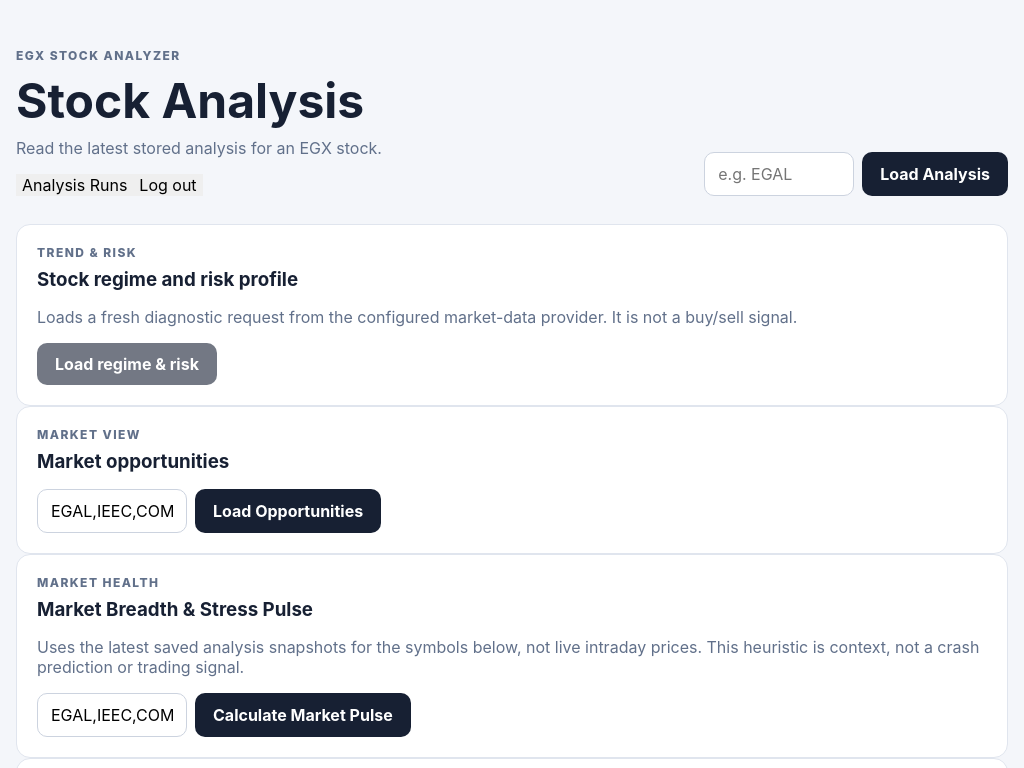
Test case: Dashboard › loads and renders the latest report and alert
The width and height of the screenshot is (1024, 768).
In the field named "Stock Symbol": (779, 174) [704,152,854,196], type "egal"
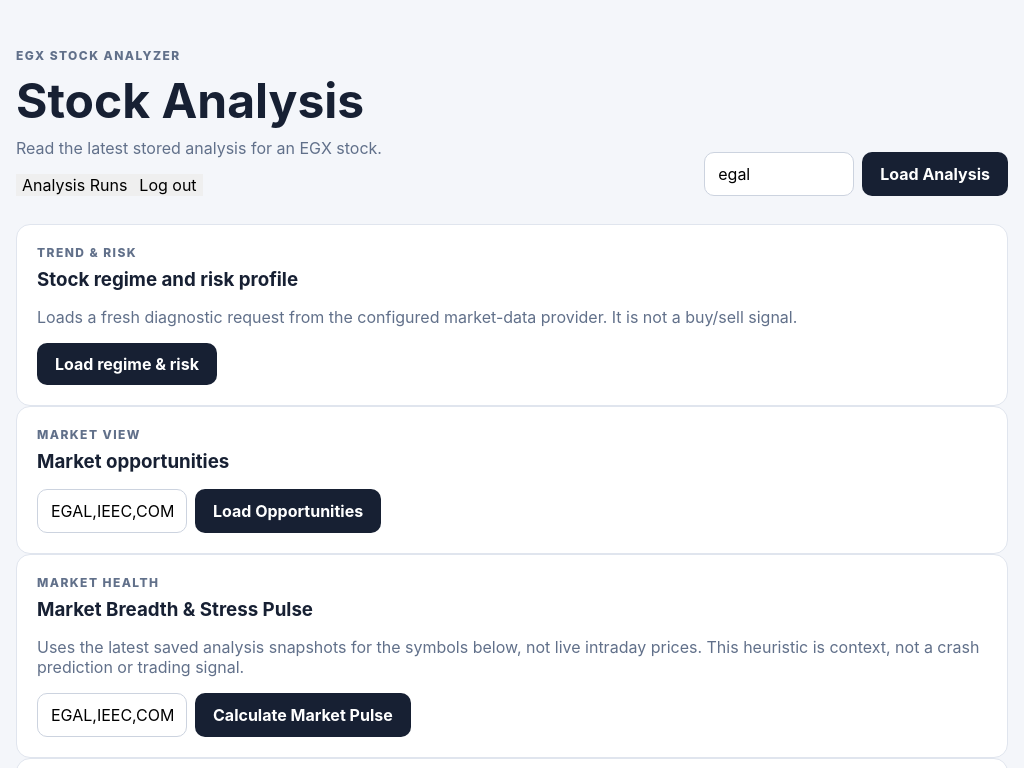
Click the button "Load Analysis": (935, 174) [862,152,1008,196]
(page scrolled)
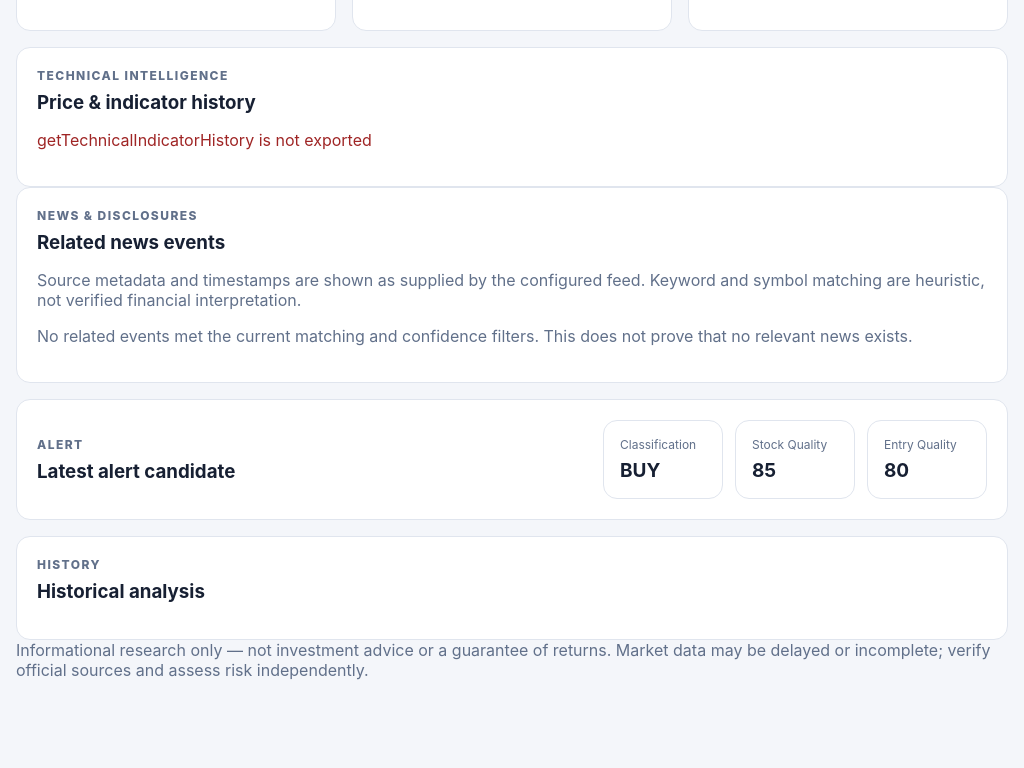
Now the text "BUY" is shown, box [620,459,660,482]
